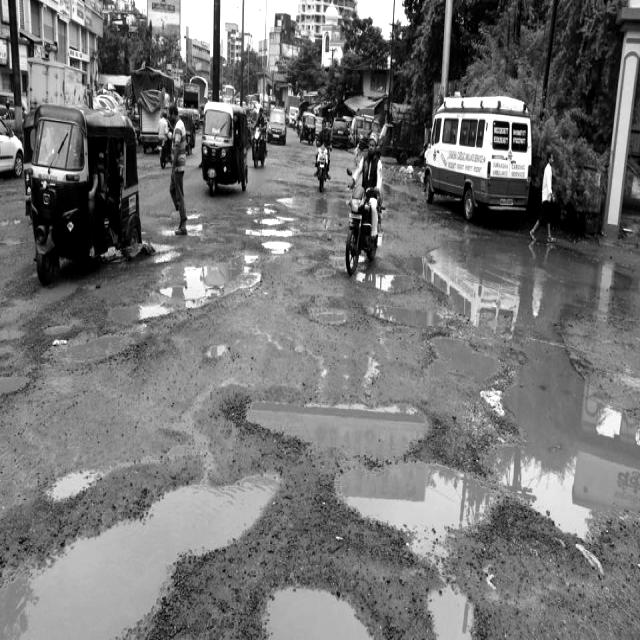pathole: (205, 298, 524, 640), (406, 208, 640, 612), (8, 441, 272, 640), (2, 290, 130, 420), (122, 266, 275, 366), (183, 211, 281, 315), (276, 187, 345, 254)
